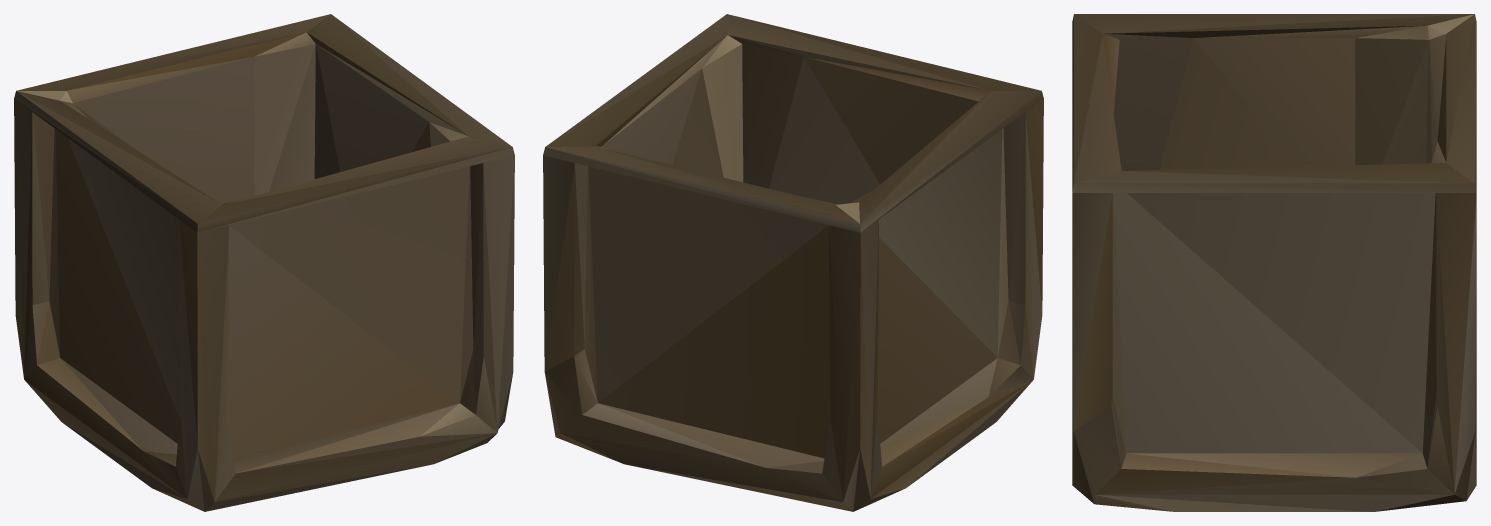
Rendered from CrateA_Bottom.fbx.
3 renders of one model, left to right at view 1: azimuth 30°, elevation 25°; view 2: azimuth 150°, elevation 25°; view 3: azimuth 270°, elevation 25°, orthographic. The views are drawn at different scales.
Visible parts, largest first — view 1: CrateA_Bottom; view 2: CrateA_Bottom; view 3: CrateA_Bottom.
Boxes of the visible parts, x1,y1,x2,y2 form: CrateA_Bottom: (14,14,514,511); CrateA_Bottom: (543,14,1043,511); CrateA_Bottom: (1072,14,1476,511).
Bounding box in the file's own units: 100 × 90 × 100.
